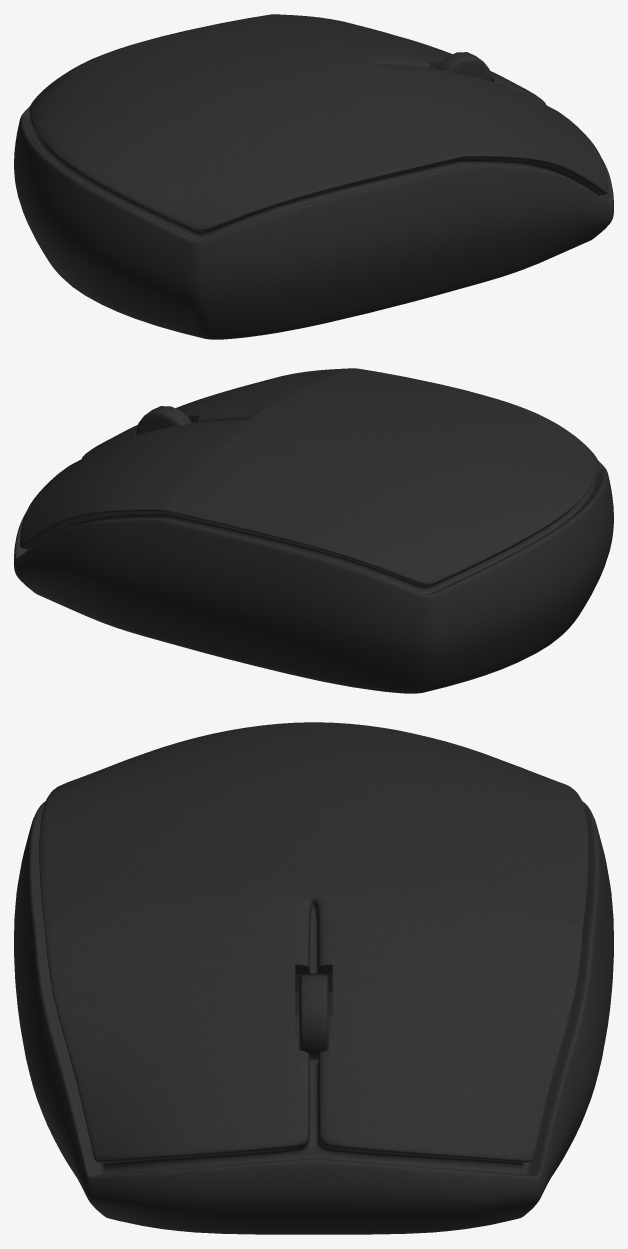
The model's file is pc_mouse.fbx.
3 renders of one model, top to bottom at view 1: azimuth 30°, elevation 25°; view 2: azimuth 150°, elevation 25°; view 3: azimuth 270°, elevation 25°, orthographic. The views are drawn at different scales.
Visible parts, largest first — view 1: pc_mouse; view 2: pc_mouse; view 3: pc_mouse.
Boxes of the visible parts, left/top/right/bottom form: pc_mouse: left=14, top=14, right=613, bottom=339; pc_mouse: left=14, top=368, right=613, bottom=693; pc_mouse: left=14, top=722, right=613, bottom=1234.
Size of the model in its own units: 10.36 by 3.16 by 7.5.
Materials: 1 (1 with a texture image).
